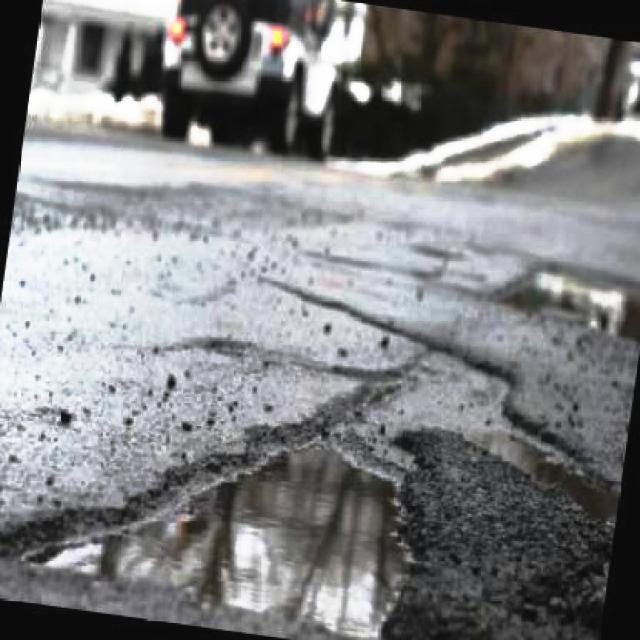pothole: (6, 343, 640, 640), (492, 252, 640, 350)
